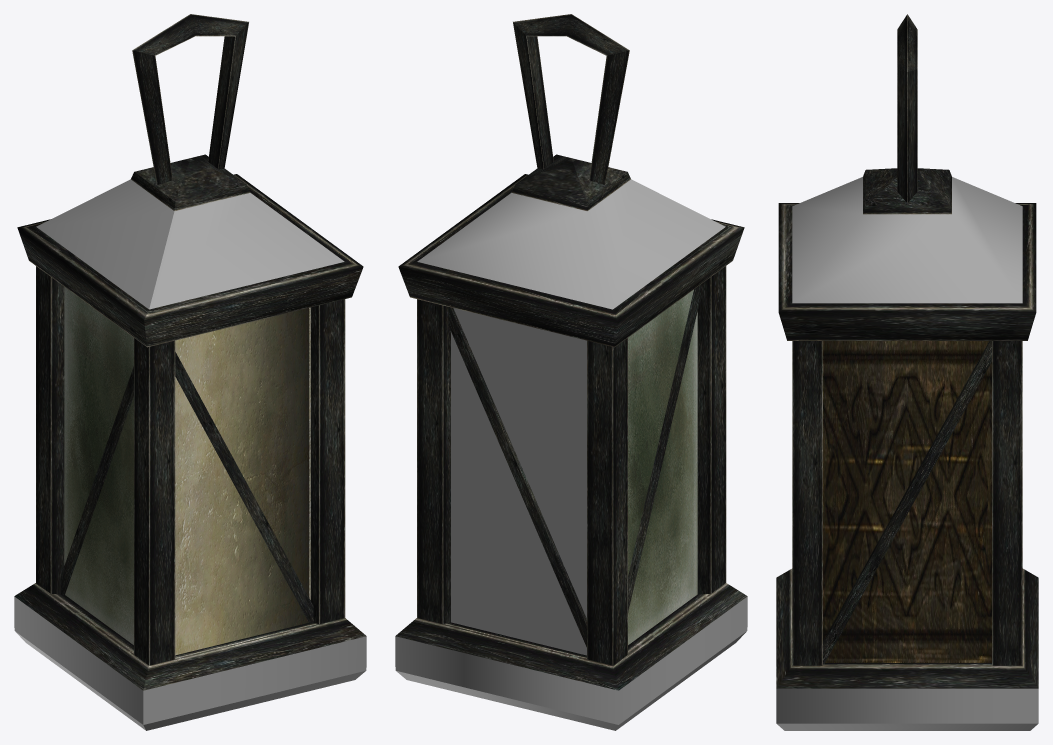
File: light_com_lantern_02.obj
3 views of the same model, side by side, from view 1: azimuth 30°, elevation 25°; view 2: azimuth 150°, elevation 25°; view 3: azimuth 270°, elevation 25° (orthographic).
Visible parts, largest first — view 1: nifid_30-matrix_Tri_Light_Com_Lantern_02_0-lib, nifid_10-matrix_Tri_Object01_0-lib, nifid_40-matrix_Tri_Light_Com_Lantern_02_2-lib, nifid_3-matrix_Tri_Box01_0-lib, nifid_45-matrix_Tri_Light_Com_Lantern_02_3-lib; view 2: nifid_30-matrix_Tri_Light_Com_Lantern_02_0-lib, nifid_24-matrix_Tri_Object03_0-lib, nifid_40-matrix_Tri_Light_Com_Lantern_02_2-lib, nifid_3-matrix_Tri_Box01_0-lib, nifid_45-matrix_Tri_Light_Com_Lantern_02_3-lib; view 3: nifid_30-matrix_Tri_Light_Com_Lantern_02_0-lib, nifid_17-matrix_Tri_Object02_0-lib, nifid_40-matrix_Tri_Light_Com_Lantern_02_2-lib, nifid_45-matrix_Tri_Light_Com_Lantern_02_3-lib.
Part boxes in pixels (x1,y1,x2,y2): nifid_30-matrix_Tri_Light_Com_Lantern_02_0-lib: (14, 14, 366, 690); nifid_10-matrix_Tri_Object01_0-lib: (175, 307, 310, 655); nifid_40-matrix_Tri_Light_Com_Lantern_02_2-lib: (36, 179, 344, 309); nifid_3-matrix_Tri_Box01_0-lib: (64, 287, 133, 644); nifid_45-matrix_Tri_Light_Com_Lantern_02_3-lib: (14, 596, 366, 730); nifid_30-matrix_Tri_Light_Com_Lantern_02_0-lib: (395, 14, 747, 690); nifid_24-matrix_Tri_Object03_0-lib: (451, 308, 586, 655); nifid_40-matrix_Tri_Light_Com_Lantern_02_2-lib: (417, 179, 725, 309); nifid_3-matrix_Tri_Box01_0-lib: (628, 289, 697, 644); nifid_45-matrix_Tri_Light_Com_Lantern_02_3-lib: (395, 596, 747, 730); nifid_30-matrix_Tri_Light_Com_Lantern_02_0-lib: (776, 14, 1038, 688); nifid_17-matrix_Tri_Object02_0-lib: (823, 341, 991, 662); nifid_40-matrix_Tri_Light_Com_Lantern_02_2-lib: (792, 177, 1022, 303); nifid_45-matrix_Tri_Light_Com_Lantern_02_3-lib: (776, 688, 1038, 730).
Size of the model in its own units: 0.3553 by 0.9832 by 0.3553.
